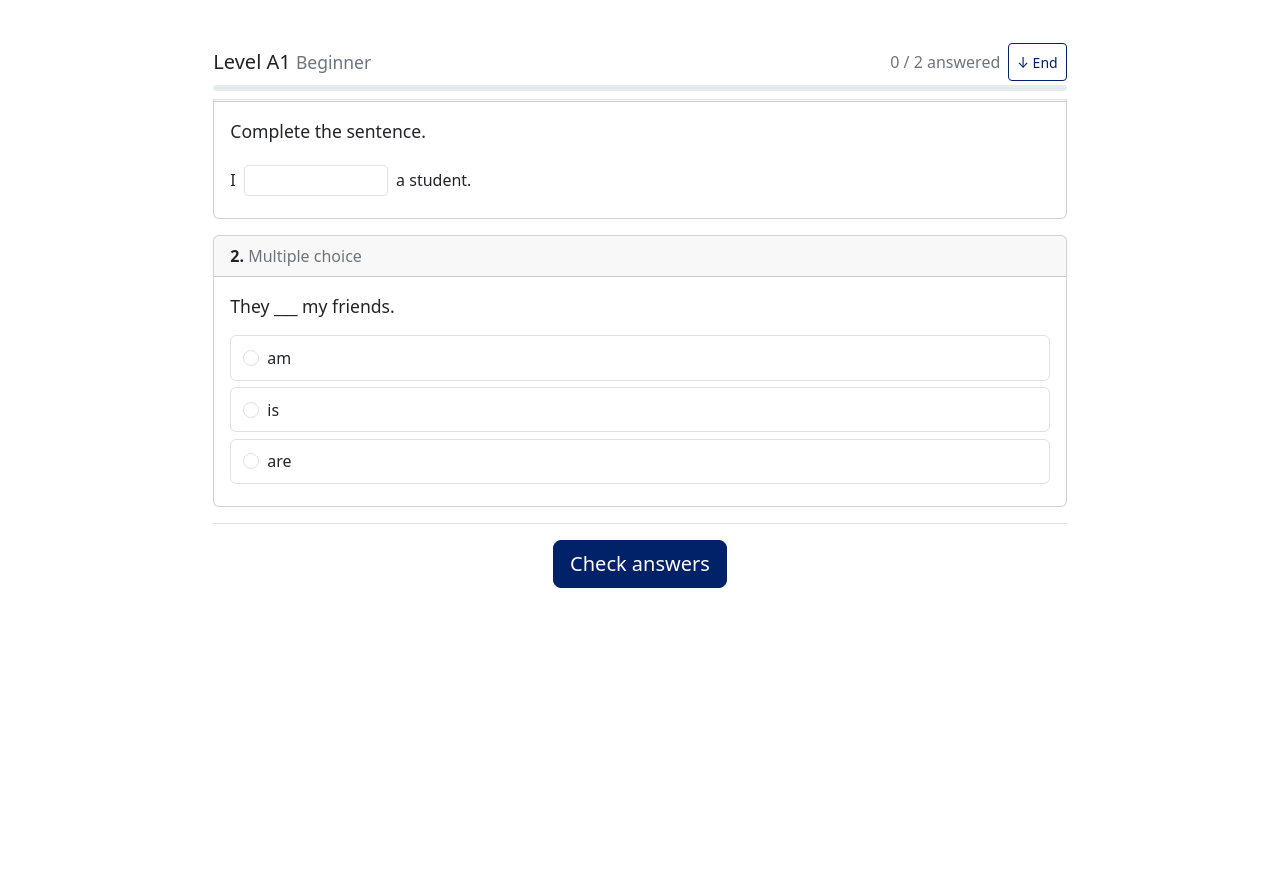
QuizPage › asks for confirmation when questions are unanswered and marks them wrong
Click the button "Check answers": (640, 564) left=553, top=540, right=727, bottom=588
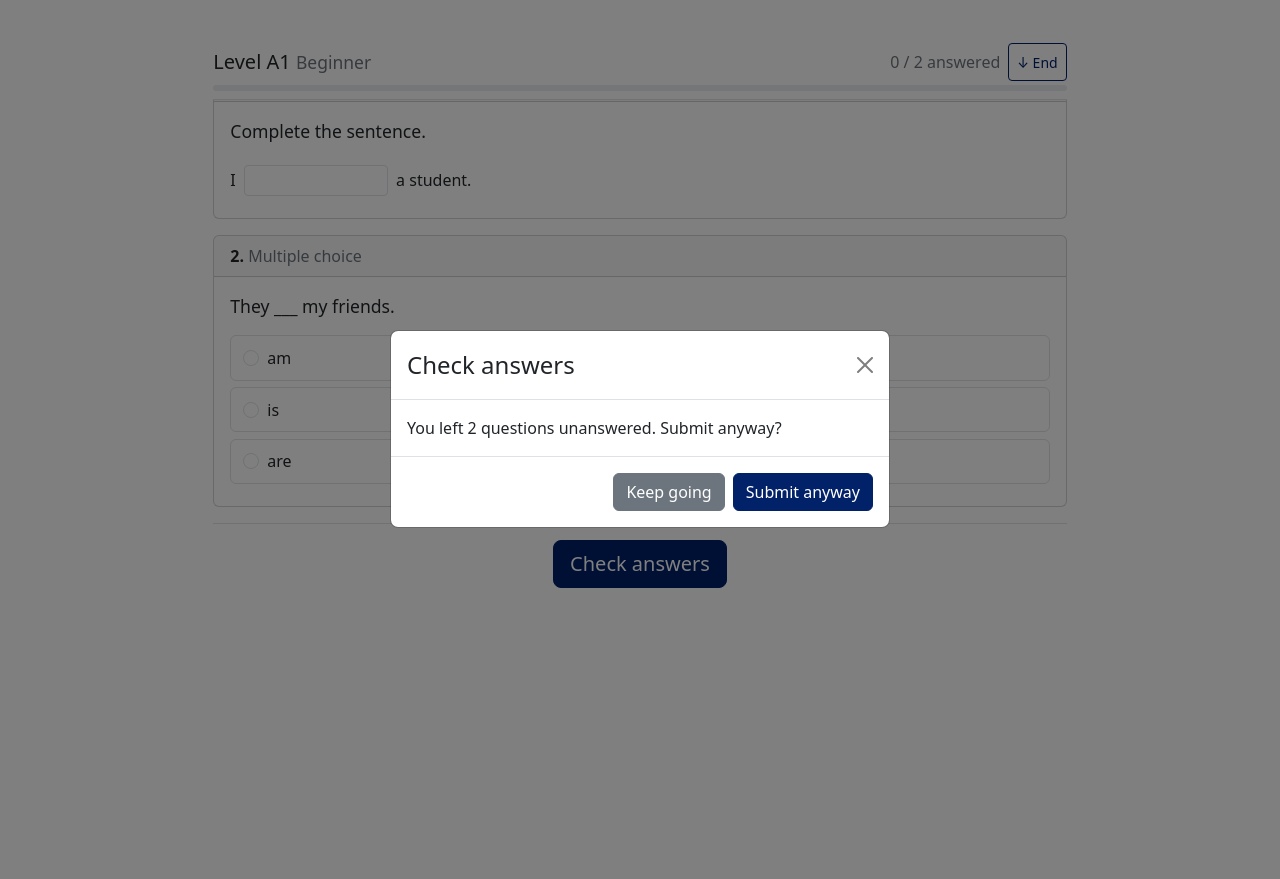
Result: the text "You left 2 questions unanswered. Submit anyway?" is shown at left=407, top=417, right=782, bottom=439
Click the button "Submit anyway": (803, 492) left=733, top=473, right=873, bottom=511
(page scrolled)
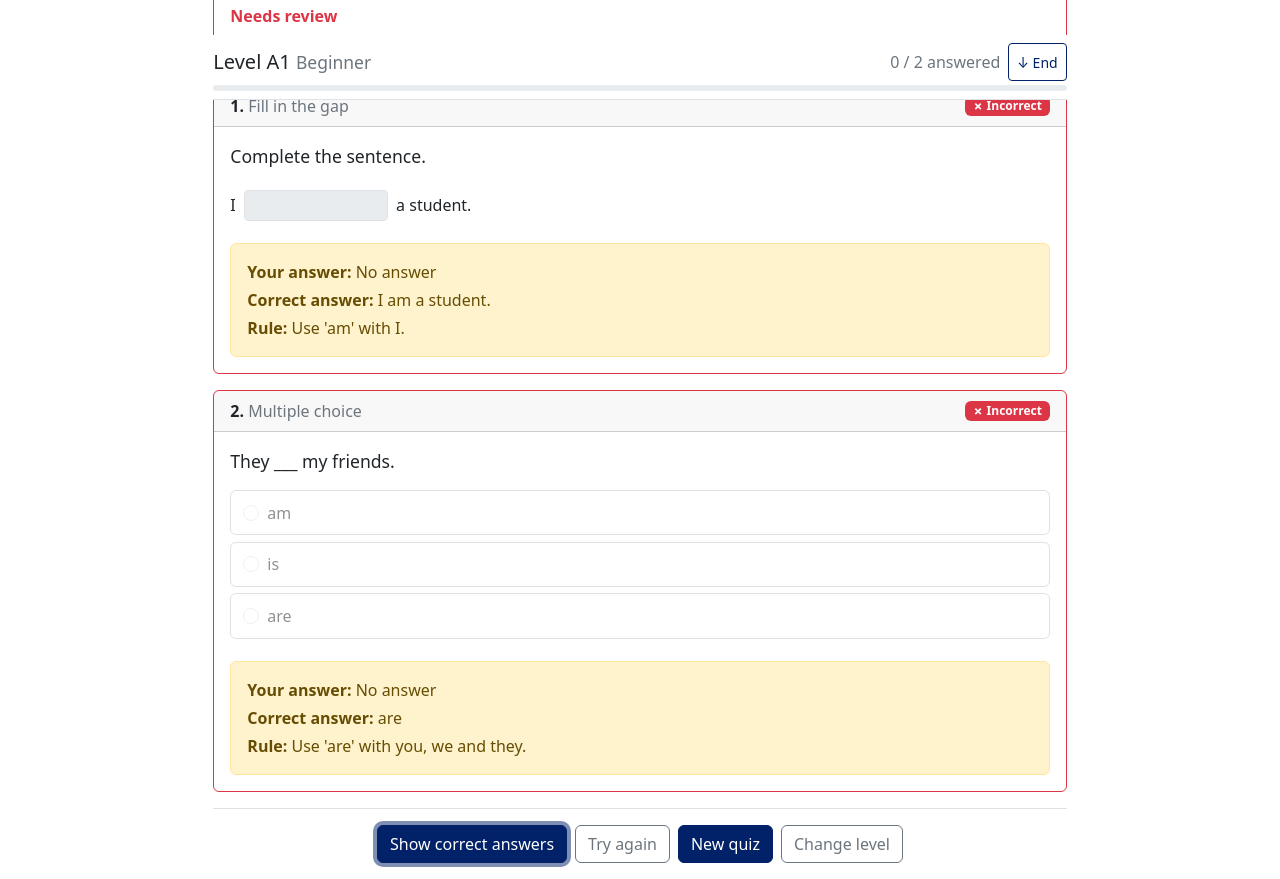
Result: the text "No answer" is shown 2 times at left=247, top=261, right=436, bottom=283; left=247, top=679, right=436, bottom=701
